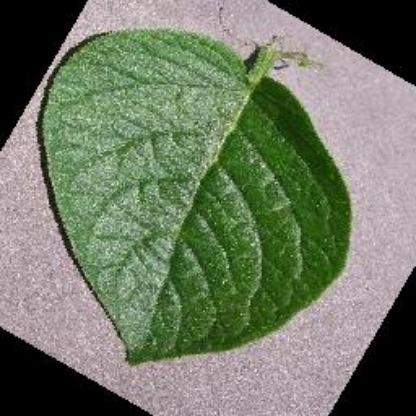Healthy-plant: (37, 20, 367, 364)
